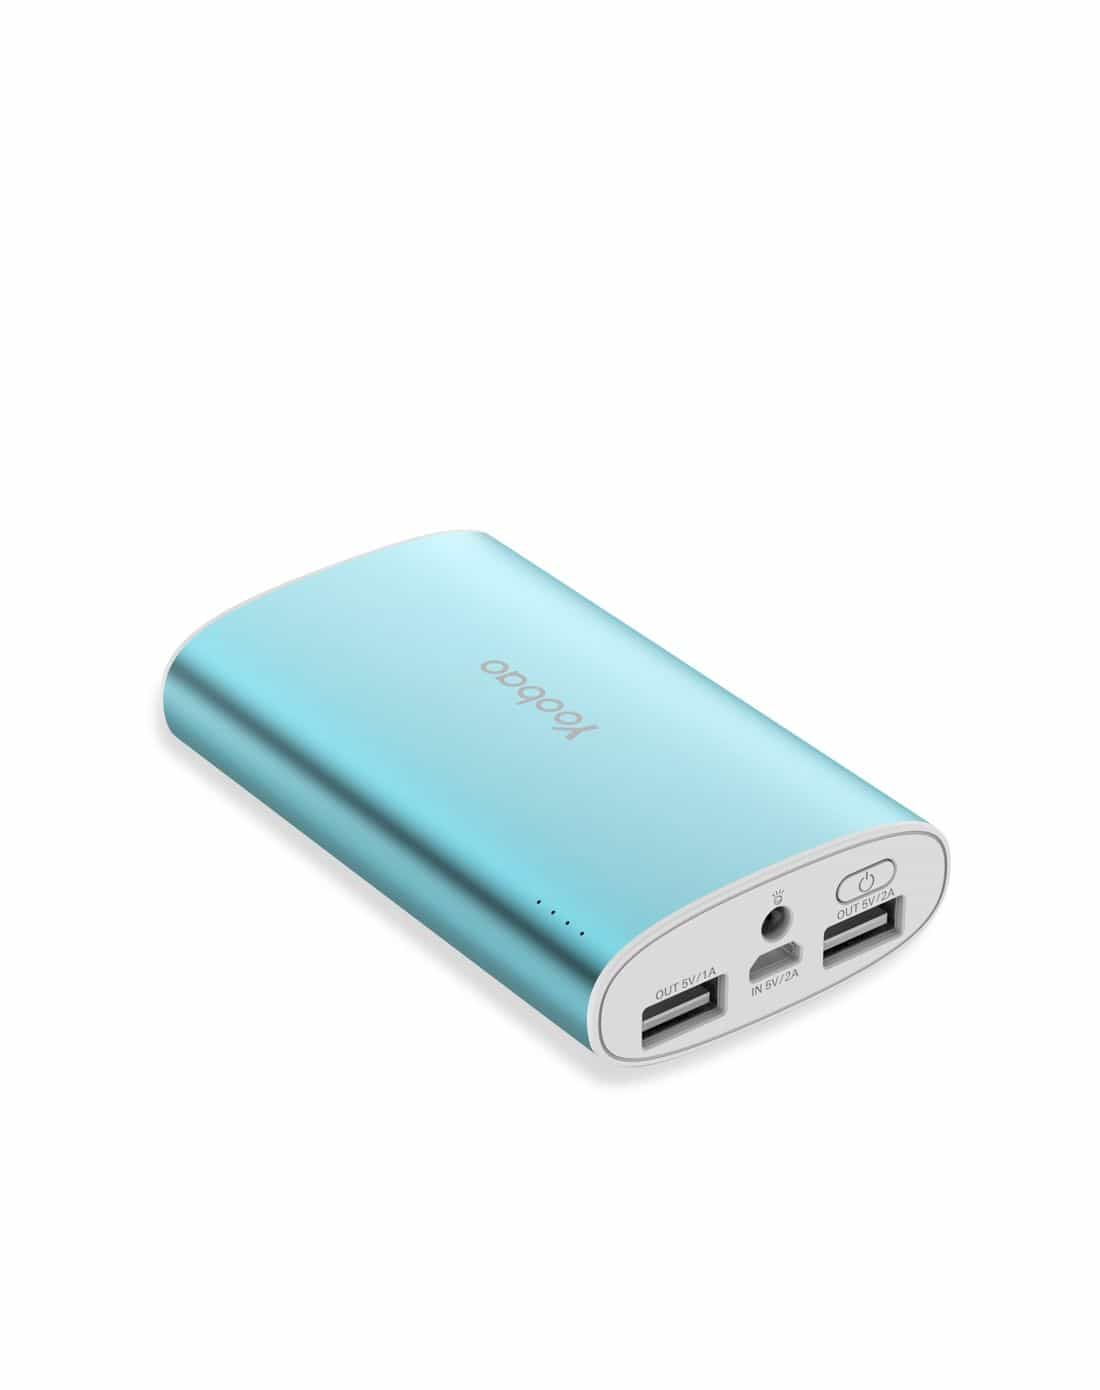power_bank: (148, 513, 963, 1076)
